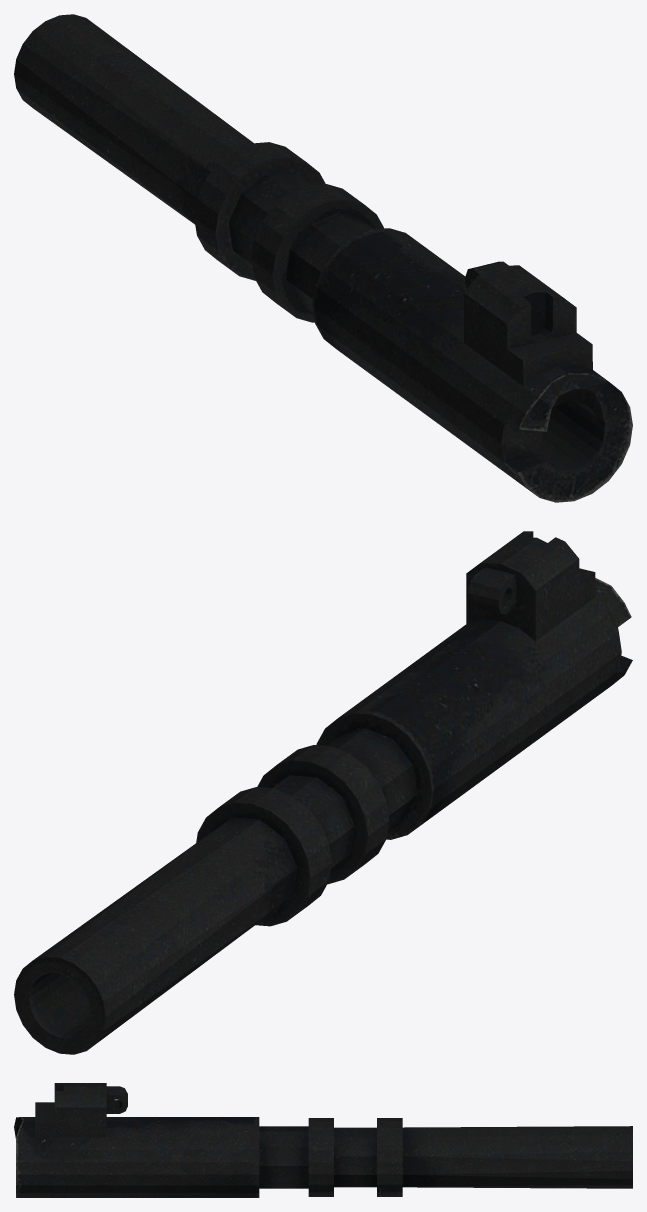
The picture shows the model from 3 angles, top to bottom: view 1: azimuth 30°, elevation 25°; view 2: azimuth 150°, elevation 25°; view 3: azimuth 270°, elevation 25°; orthographic projection. The views are drawn at different scales.
Parts seen in each view (by area): view 1: TW_571a26d524597720680fbe8a_PZ_Import; view 2: TW_571a26d524597720680fbe8a_PZ_Import; view 3: TW_571a26d524597720680fbe8a_PZ_Import.
Boxes of the visible parts, bbox=[...] form: TW_571a26d524597720680fbe8a_PZ_Import: bbox=[14, 14, 632, 502]; TW_571a26d524597720680fbe8a_PZ_Import: bbox=[14, 531, 632, 1054]; TW_571a26d524597720680fbe8a_PZ_Import: bbox=[14, 1083, 632, 1197].
Size of the model in its own units: 0.00886 by 0.0673 by 0.0129.
1 material, 1 textured.
